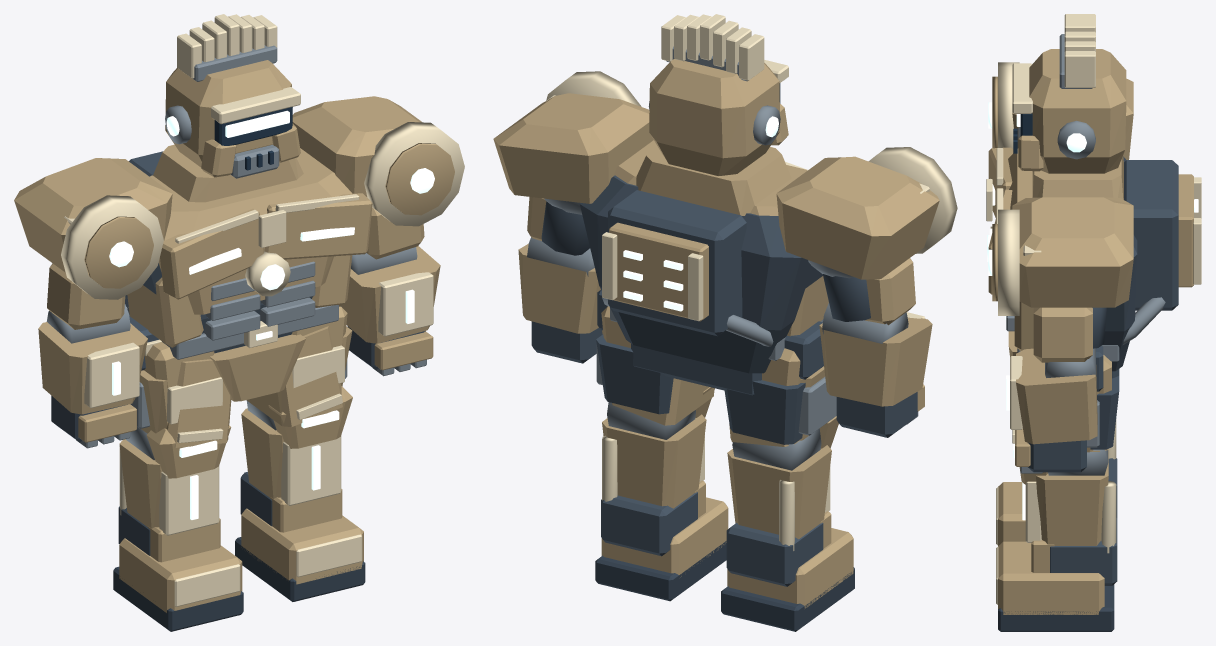
Rendered from character_praetorian.glb.
3 renders of one model, left to right at view 1: azimuth 30°, elevation 25°; view 2: azimuth 150°, elevation 25°; view 3: azimuth 270°, elevation 25°, orthographic. The views are drawn at different scales.
Parts seen in each view (by area): view 1: shoulder_pauldron_63, thorax_carapace_2, shoulder_pauldron_78, helmet_94, pectoral_plate_3, forearm_bracer_69, shoulder_round_shield_128, pectoral_plate_13, shoulder_round_shield_133, boot_toe_47, boot_toe_31, codpiece_24 (+55 smaller); view 2: shoulder_pauldron_63, torso_1, shoulder_pauldron_78, helmet_94, reactor_pack_108, forearm_bracer_69, shin_armor_51, shin_armor_35, neck_guard_collar_93, reactor_armored_cover_109, forearm_bracer_84, boot_ankle_49 (+36 smaller); view 3: shoulder_pauldron_78, helmet_94, reactor_pack_108, forearm_bracer_84, boot_toe_47, shin_armor_51, upper_arm_plate_82, boot_sole_46, neck_guard_collar_93, shoulder_round_shield_133, boot_ankle_49, reactor_armored_cover_109 (+33 smaller).
Part boxes in pixels (bbox=[...]): shoulder_pauldron_63: bbox=[14, 158, 172, 272]; thorax_carapace_2: bbox=[150, 148, 352, 314]; shoulder_pauldron_78: bbox=[292, 96, 421, 196]; helmet_94: bbox=[165, 60, 291, 167]; pectoral_plate_3: bbox=[160, 208, 263, 299]; forearm_bracer_69: bbox=[38, 322, 147, 414]; shoulder_round_shield_128: bbox=[61, 195, 163, 299]; pectoral_plate_13: bbox=[264, 193, 372, 259]; shoulder_round_shield_133: bbox=[364, 122, 464, 226]; boot_toe_47: bbox=[241, 508, 363, 584]; boot_toe_31: bbox=[119, 538, 242, 612]; codpiece_24: bbox=[210, 334, 305, 401]; shoulder_pauldron_63: bbox=[776, 156, 939, 279]; torso_1: bbox=[580, 175, 822, 373]; shoulder_pauldron_78: bbox=[493, 93, 653, 203]; helmet_94: bbox=[649, 59, 780, 175]; reactor_pack_108: bbox=[608, 190, 746, 336]; forearm_bracer_69: bbox=[819, 317, 932, 406]; shin_armor_51: bbox=[602, 414, 706, 508]; shin_armor_35: bbox=[727, 445, 831, 539]; neck_guard_collar_93: bbox=[636, 147, 791, 215]; reactor_armored_cover_109: bbox=[609, 222, 708, 321]; forearm_bracer_84: bbox=[518, 244, 600, 333]; boot_ankle_49: bbox=[601, 492, 697, 556]; shoulder_pauldron_78: bbox=[1012, 197, 1133, 307]; helmet_94: bbox=[1029, 49, 1126, 173]; reactor_pack_108: bbox=[1124, 160, 1178, 310]; forearm_bracer_84: bbox=[1016, 348, 1097, 444]; boot_toe_47: bbox=[998, 541, 1104, 614]; shin_armor_51: bbox=[1036, 449, 1108, 545]; upper_arm_plate_82: bbox=[1033, 307, 1092, 362]; boot_sole_46: bbox=[998, 584, 1114, 631]; neck_guard_collar_93: bbox=[1032, 155, 1123, 199]; shoulder_round_shield_133: bbox=[998, 209, 1019, 315]; boot_ankle_49: bbox=[1050, 518, 1117, 585]; reactor_armored_cover_109: bbox=[1178, 174, 1193, 287].
Bounding box in the file's own units: 1.88 × 2.55 × 0.8885.
